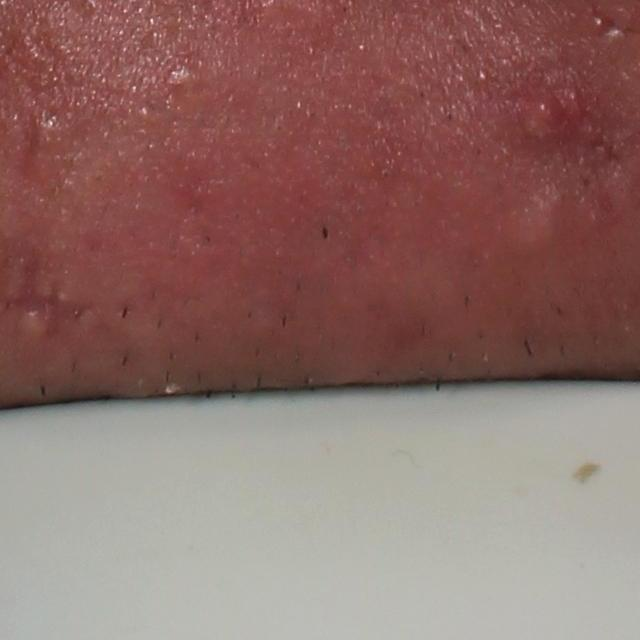atrophic_scar: (2, 252, 90, 339), (16, 113, 46, 188)
hypertrophic_scar: (499, 181, 574, 253), (14, 309, 50, 341)
